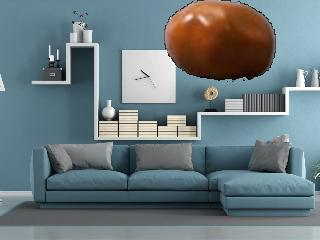potato: (163, 0, 276, 81)
